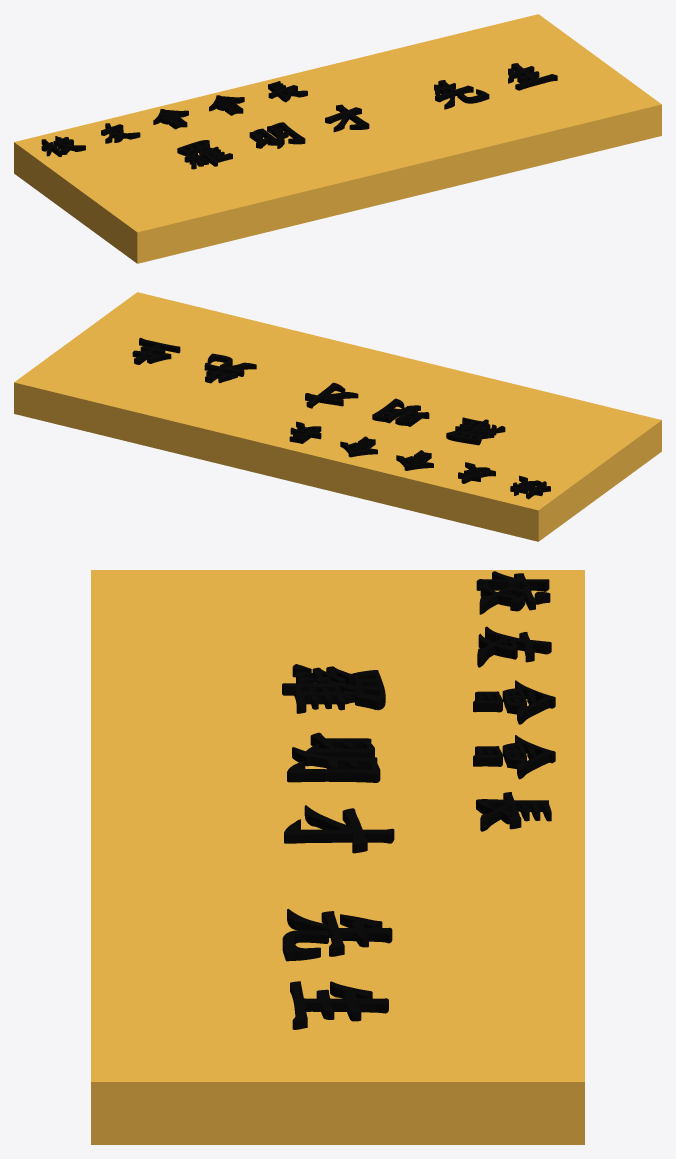
The model's file is 校友會會長.FBX.
3 views of the same model, one above another, from view 1: azimuth 30°, elevation 25°; view 2: azimuth 150°, elevation 25°; view 3: azimuth 270°, elevation 25° (orthographic). The views are drawn at different scales.
Visible parts, largest first — view 1: Box002, Text032, Text031; view 2: Box002, Text032, Text031; view 3: Box002, Text032, Text031.
Boxes of the visible parts, box(x1,y1,x2,y2) form: Box002: box(14, 14, 661, 263); Text032: box(177, 63, 557, 169); Text031: box(41, 81, 307, 156); Box002: box(14, 292, 661, 541); Text032: box(132, 337, 505, 445); Text031: box(289, 421, 550, 499); Box002: box(91, 570, 584, 1144); Text032: box(282, 664, 394, 1029); Text031: box(473, 571, 555, 831).
Size of the model in its own units: 469 by 30.65 by 191.
